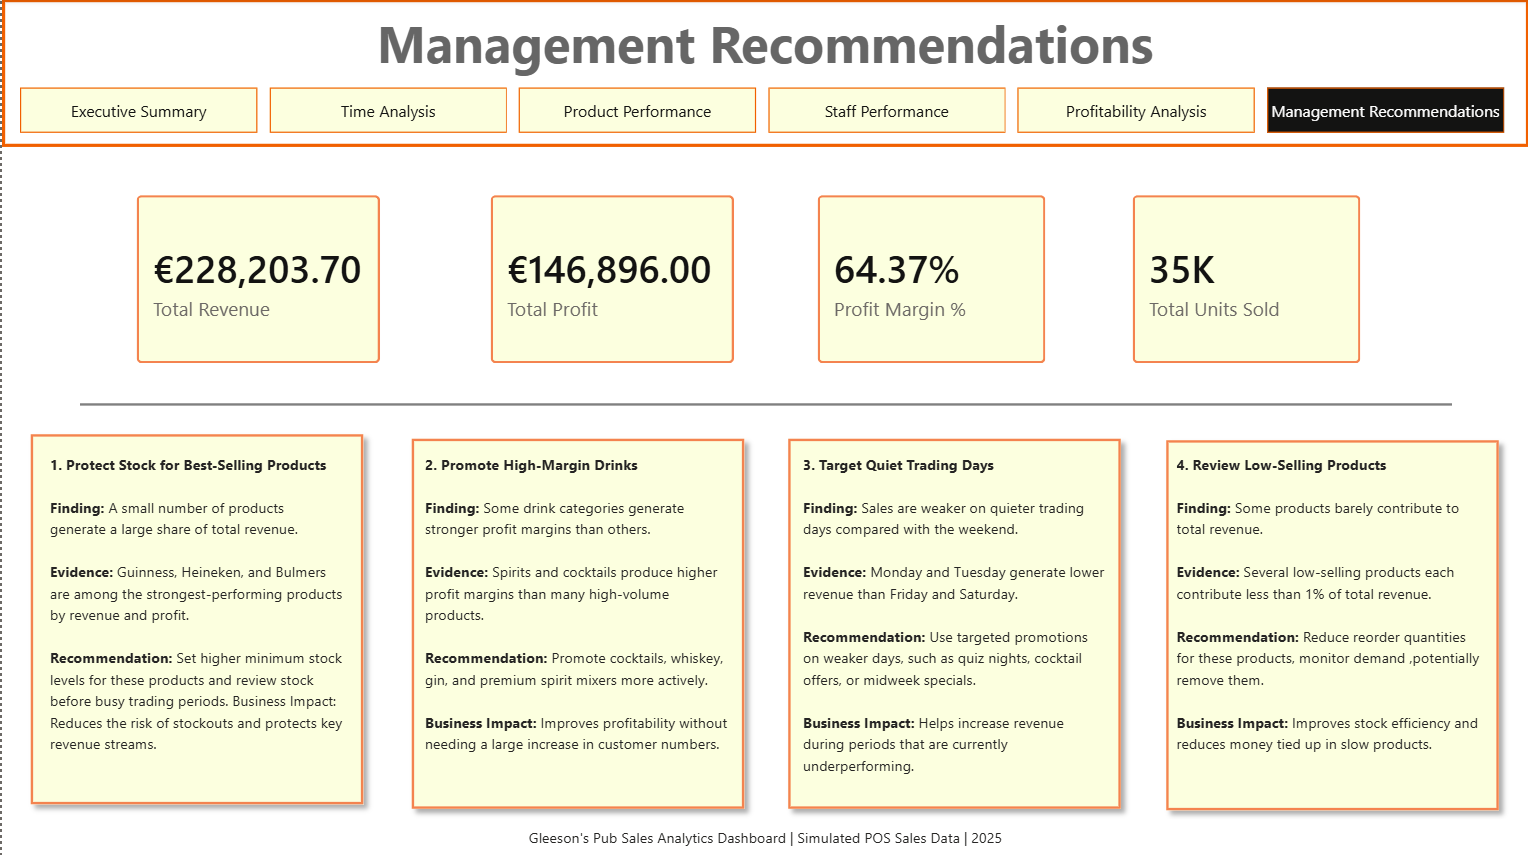

This screenshot's page, from the dashboard's own definition file:
{"tool":"powerbi","page":{"name":"Management Recommendations","canvas":[1280,720],"ordinal":5},"visuals":[{"type":"textbox","box":[0,0,1280,124.3],"z":0},{"type":"pageNavigator","box":[15.7,74.3,1248.6,38.6],"z":1000},{"type":"cardVisual","fields":{"Data":["pub_sales_data.Total Profit Card"]},"box":[391.7,146.7,238.3,175],"z":2000},{"type":"cardVisual","fields":{"Data":["pub_sales_data.Total Revenue Card"]},"box":[95,146.7,238.3,175],"z":3000},{"type":"cardVisual","fields":{"Data":["pub_sales_data.Profit Margin %"]},"box":[666.7,146.7,225,175],"z":4000},{"type":"cardVisual","fields":{"Data":["pub_sales_data.Total Units Sold"]},"box":[930,146.7,225,175],"z":5000},{"type":"shape","box":[15,375,296.7,328.3],"z":6000},{"type":"shape","box":[333.3,375,296.7,328.3],"z":7000},{"type":"shape","box":[653.3,375,296.7,328.3],"z":8000},{"type":"shape","box":[966.7,376.7,296.7,328.3],"z":9000},{"type":"shape","box":[65,190,1150,300],"z":10000},{"type":"textbox","box":[35,398.8,256.2,285],"z":11000},{"type":"textbox","box":[350,387.5,265,296.2],"z":11001},{"type":"textbox","box":[666.2,398.8,263.8,285],"z":11002},{"type":"textbox","box":[980,398.8,266.2,285],"z":11003}]}

Visuals, with their boxes in screenshot pixels (x1, y1, x2, y2), scaled from the page's 1280x720 canvas onto the 1528x856 screenshot:
textbox: (left=0, top=0, right=1527, bottom=148)
pageNavigator: (left=19, top=88, right=1509, bottom=134)
cardVisual - pub_sales_data.Total Profit Card: (left=468, top=174, right=752, bottom=382)
cardVisual - pub_sales_data.Total Revenue Card: (left=113, top=174, right=398, bottom=382)
cardVisual - pub_sales_data.Profit Margin %: (left=796, top=174, right=1064, bottom=382)
cardVisual - pub_sales_data.Total Units Sold: (left=1110, top=174, right=1379, bottom=382)
shape: (left=18, top=446, right=372, bottom=836)
shape: (left=398, top=446, right=752, bottom=836)
shape: (left=780, top=446, right=1134, bottom=836)
shape: (left=1154, top=448, right=1508, bottom=838)
shape: (left=78, top=226, right=1450, bottom=583)
textbox: (left=42, top=474, right=348, bottom=813)
textbox: (left=418, top=461, right=734, bottom=813)
textbox: (left=795, top=474, right=1110, bottom=813)
textbox: (left=1170, top=474, right=1488, bottom=813)
